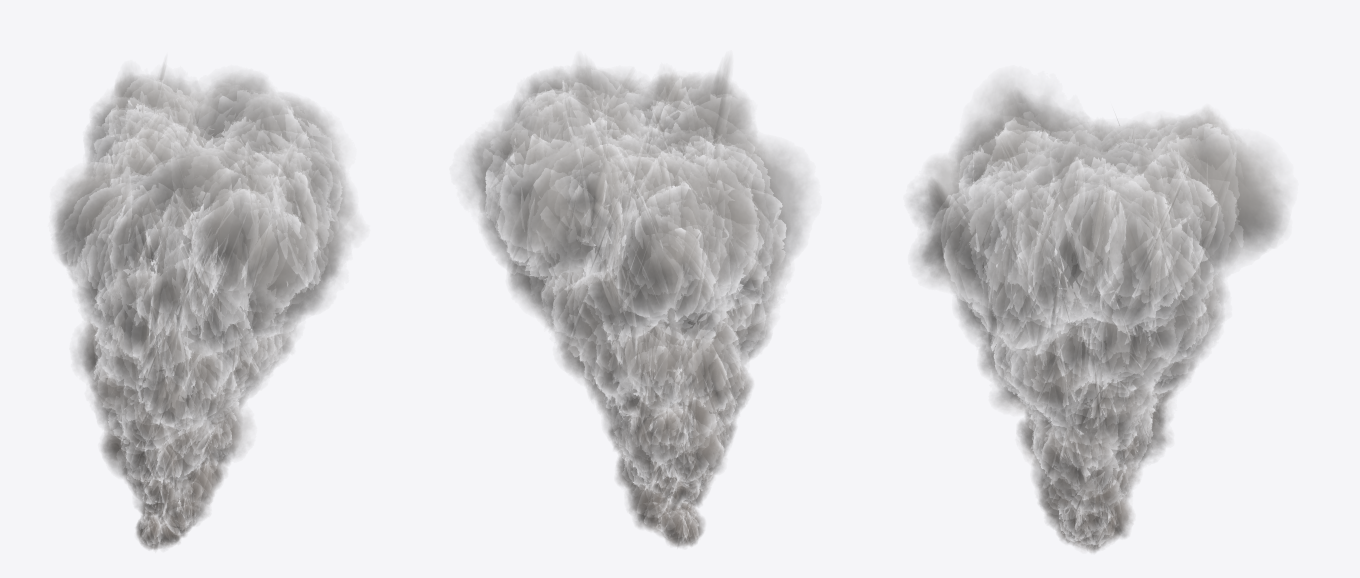
The model's file is ash_column.glb.
3 views of the same model, side by side, from view 1: azimuth 30°, elevation 25°; view 2: azimuth 150°, elevation 25°; view 3: azimuth 270°, elevation 25° (orthographic). The views are drawn at different scales.
Size of the model in its own units: 140 by 194 by 152.
Materials: 1 (1 with a texture image).
